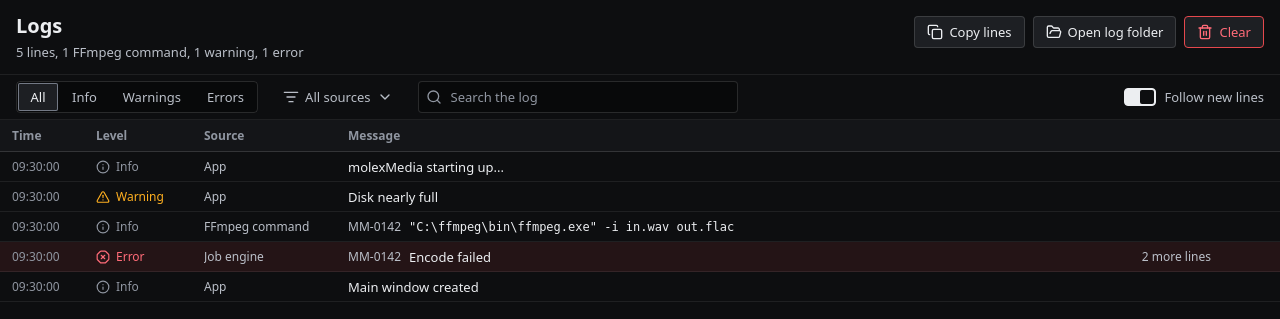
it: LogViewer header and toolbar › copies the shown lines and confirms on the button
The width and height of the screenshot is (1280, 319).
Step 1. Click the radio button labelled "Info" → (84,97), box [60, 83, 109, 111]
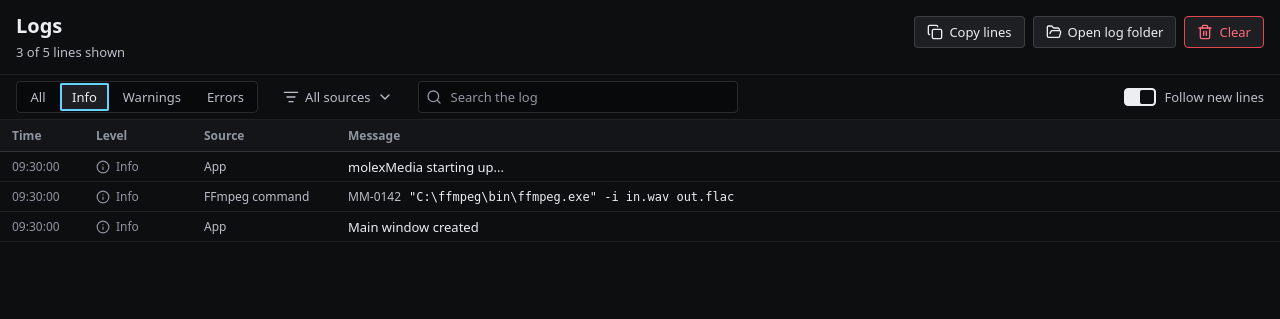
Step 2. Click the button "Copy lines" → (969,32), box [914, 16, 1024, 48]
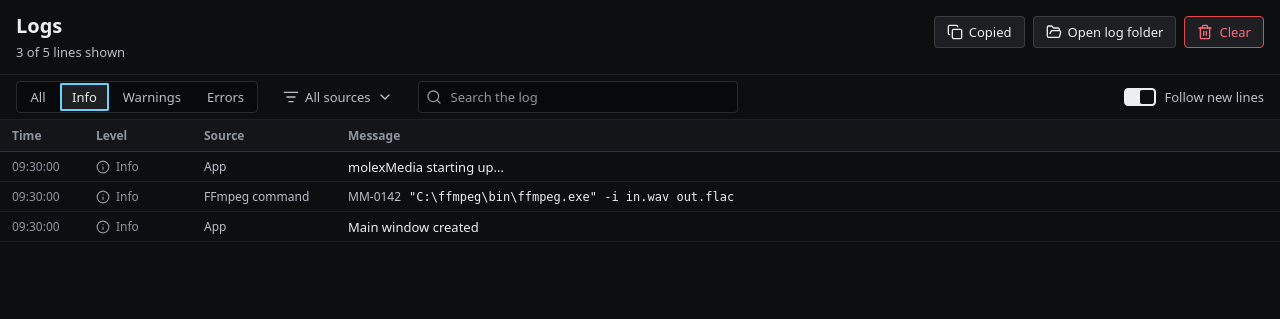
Now the button "Copied" is shown, box [934, 16, 1025, 48]
